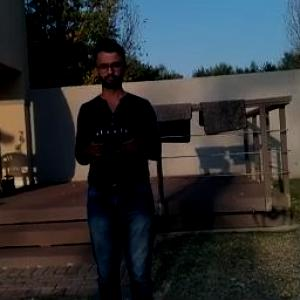follow: (69, 29, 168, 299)
